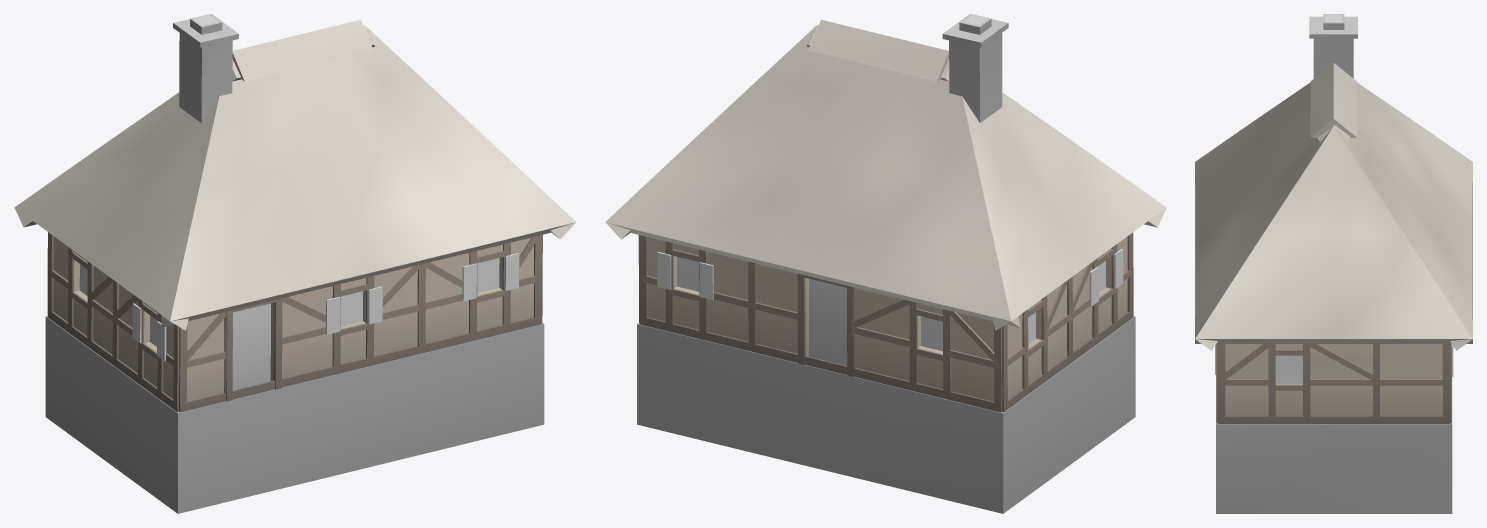
Rendered from cottage_5.glb.
3 renders of one model, left to right at view 1: azimuth 30°, elevation 25°; view 2: azimuth 150°, elevation 25°; view 3: azimuth 270°, elevation 25°, orthographic. The views are drawn at different scales.
Visible parts, largest first — view 1: cottage_5; view 2: cottage_5; view 3: cottage_5.
Boxes of the visible parts, x1=… form: cottage_5: x1=14, y1=14, x2=576, y2=513; cottage_5: x1=605, y1=14, x2=1166, y2=513; cottage_5: x1=1195, y1=14, x2=1472, y2=513.
Size of the model in its own units: 9.94 by 9.88 by 6.59.
